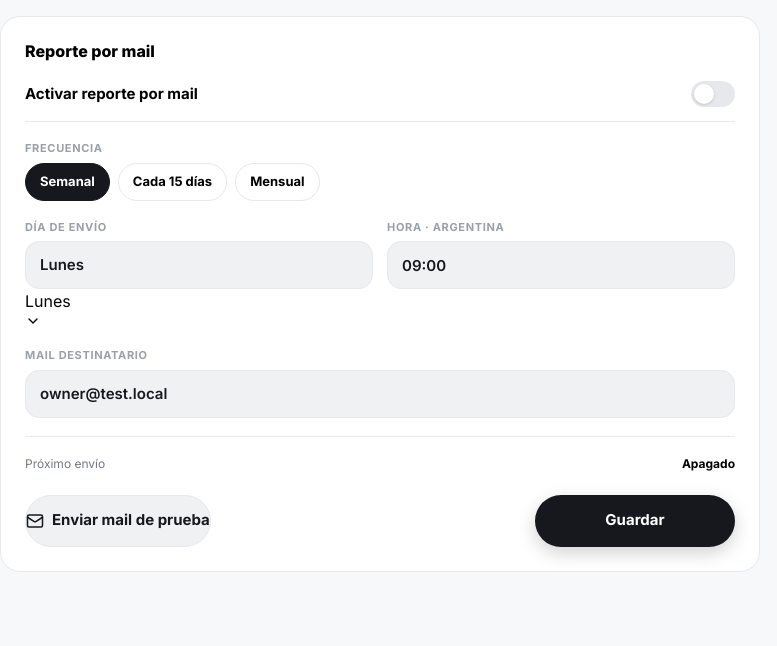
Scenario: test uses unsaved settings without saving or enabling automatic reports
The width and height of the screenshot is (777, 646).
Click the button "Enviar mail de prueba": click(118, 520) [25,494,211,546]
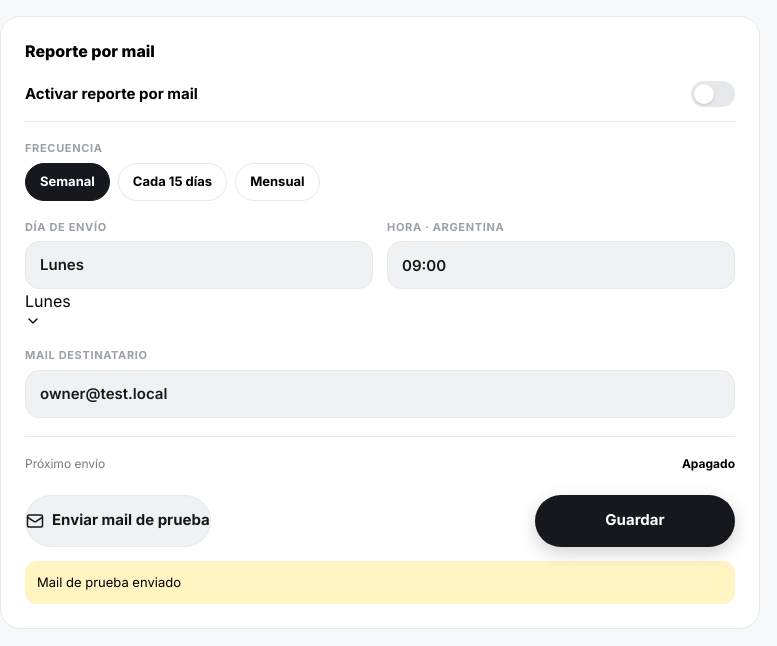
expect the message reads "Mail de prueba enviado": met, box [37,574,181,590]
Click the button "Enviar mail de prueba": click(118, 520) [25,494,211,546]
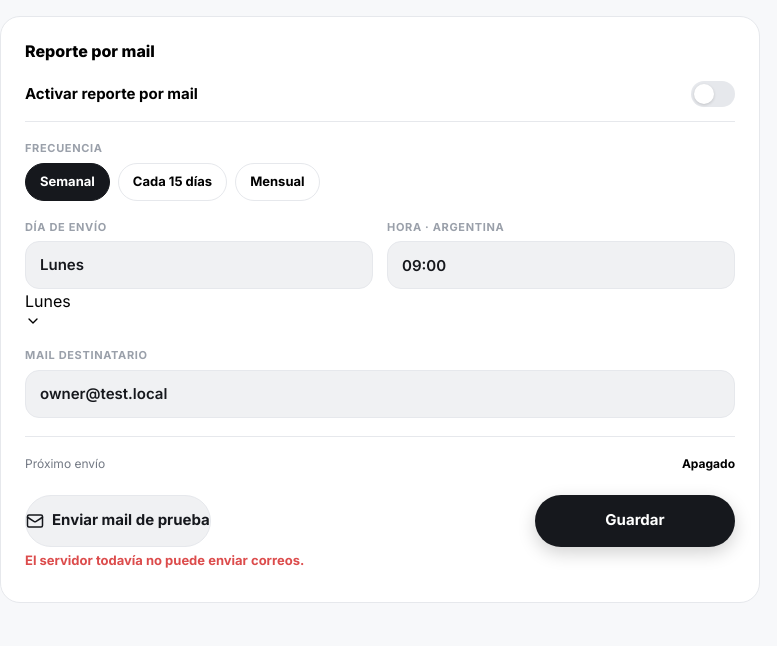
expect the message reads "El servidor todavía no puede enviar correos.": met, box [25,552,304,568]
